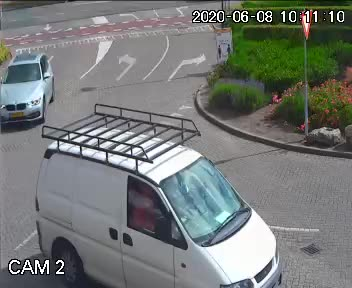car: (33, 109, 288, 288), (0, 44, 64, 137)
